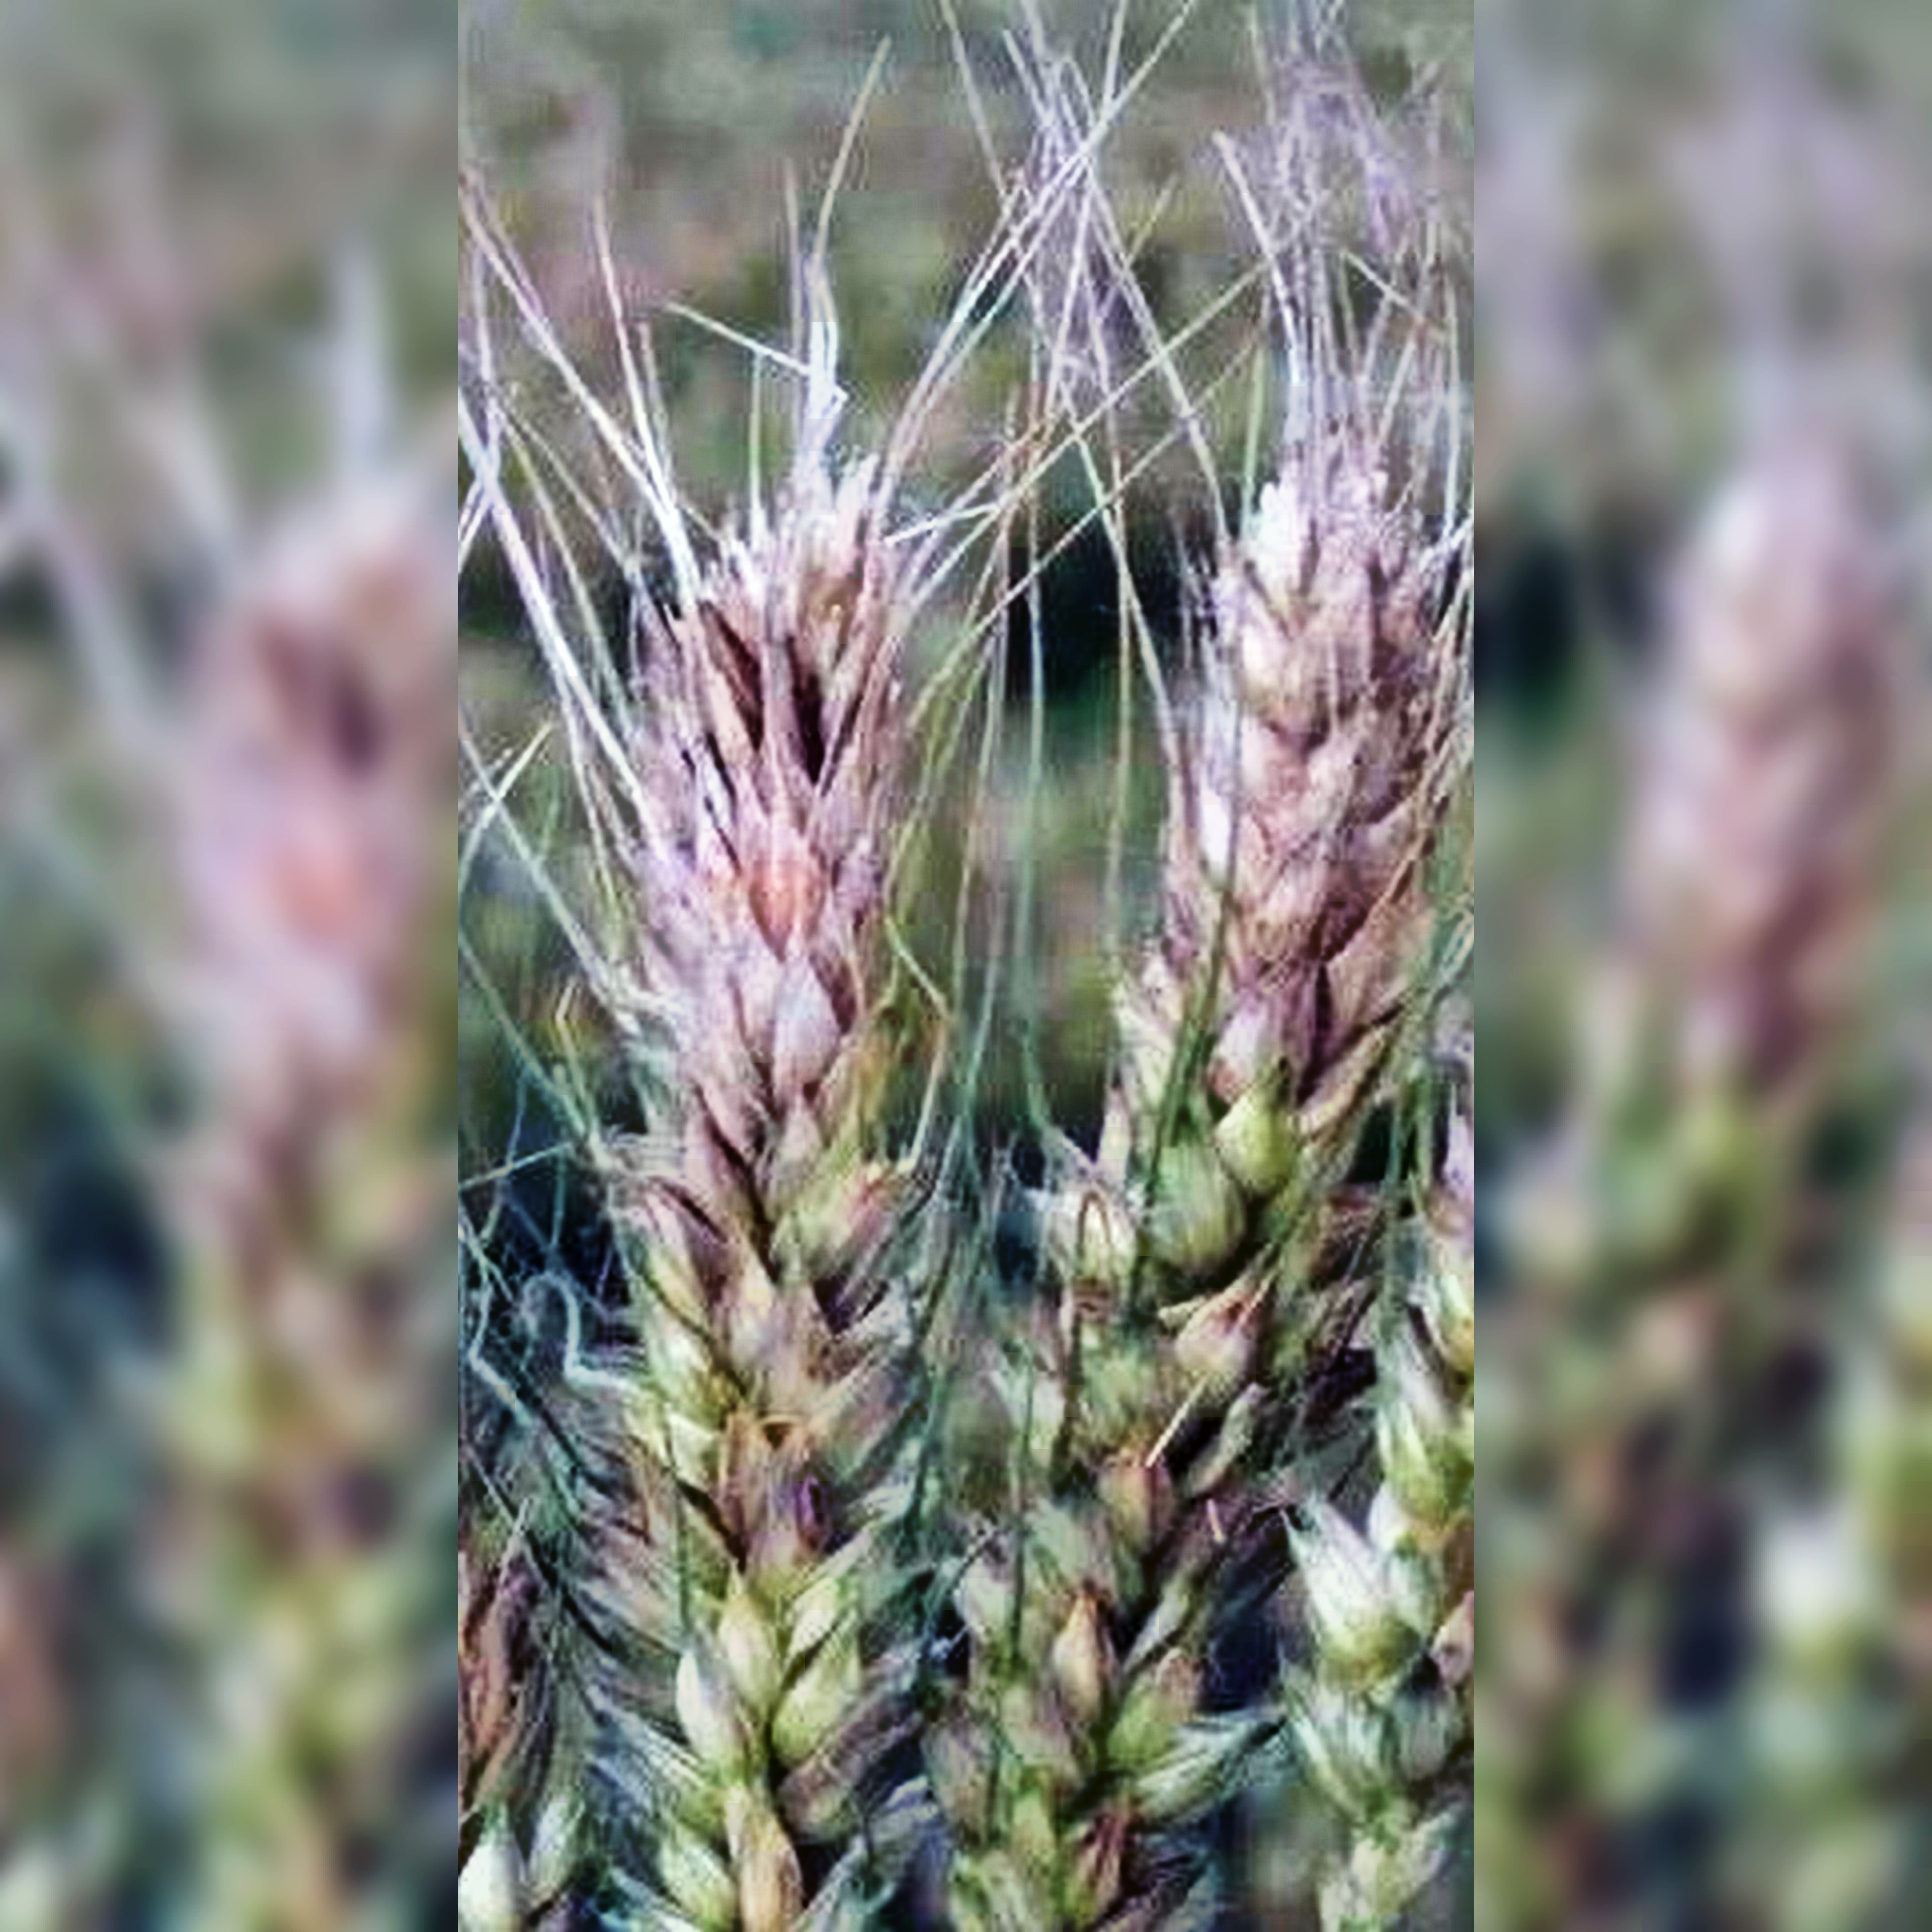Wheat scab: (991, 430, 1447, 1867), (573, 410, 927, 1932)
